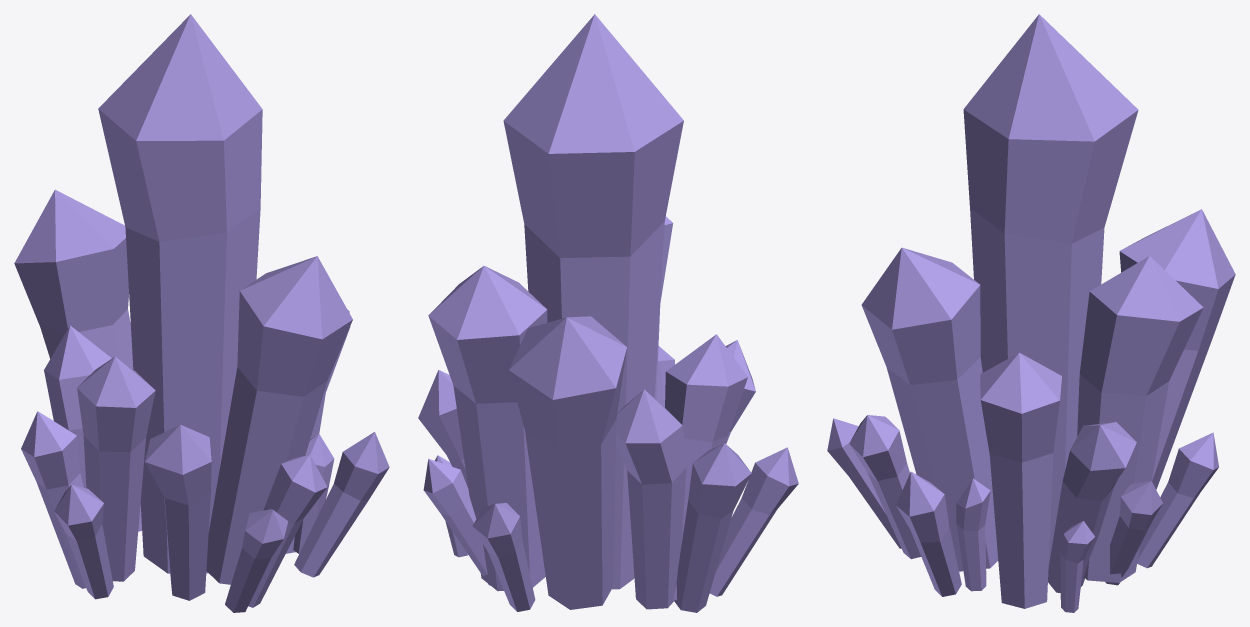
File: Crystal.fbx
3 renders of one model, left to right at view 1: azimuth 30°, elevation 25°; view 2: azimuth 150°, elevation 25°; view 3: azimuth 270°, elevation 25°, orthographic. The views are drawn at different scales.
Parts seen in each view (by area): view 1: Circle; view 2: Circle; view 3: Circle.
Part boxes in pixels (x1,y1,x2,y2): Circle: (14, 14, 389, 612); Circle: (418, 14, 798, 612); Circle: (827, 14, 1235, 612).
Size of the model in its own units: 591 by 993 by 670.
